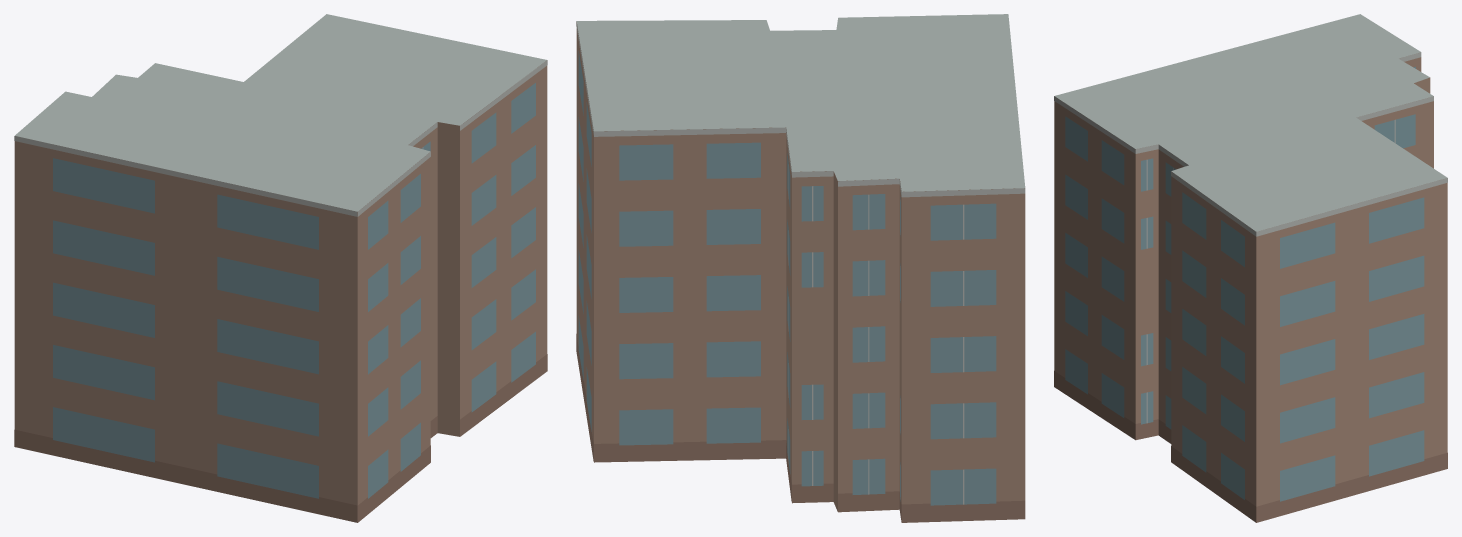
Rendered from survey-upis-32876160.glb.
The picture shows the model from 3 angles, left to right: view 1: azimuth 30°, elevation 25°; view 2: azimuth 150°, elevation 25°; view 3: azimuth 270°, elevation 25°; orthographic projection. The views are drawn at different scales.
Parts seen in each view (by area): view 1: survey-upis-32876160.tmp; view 2: survey-upis-32876160.tmp; view 3: survey-upis-32876160.tmp.
Part boxes in pixels (x1,y1,x2,y2): survey-upis-32876160.tmp: (14, 14, 547, 522); survey-upis-32876160.tmp: (576, 14, 1025, 522); survey-upis-32876160.tmp: (1054, 14, 1447, 522).
Size of the model in its own units: 23.29 by 14.5 by 17.78.
